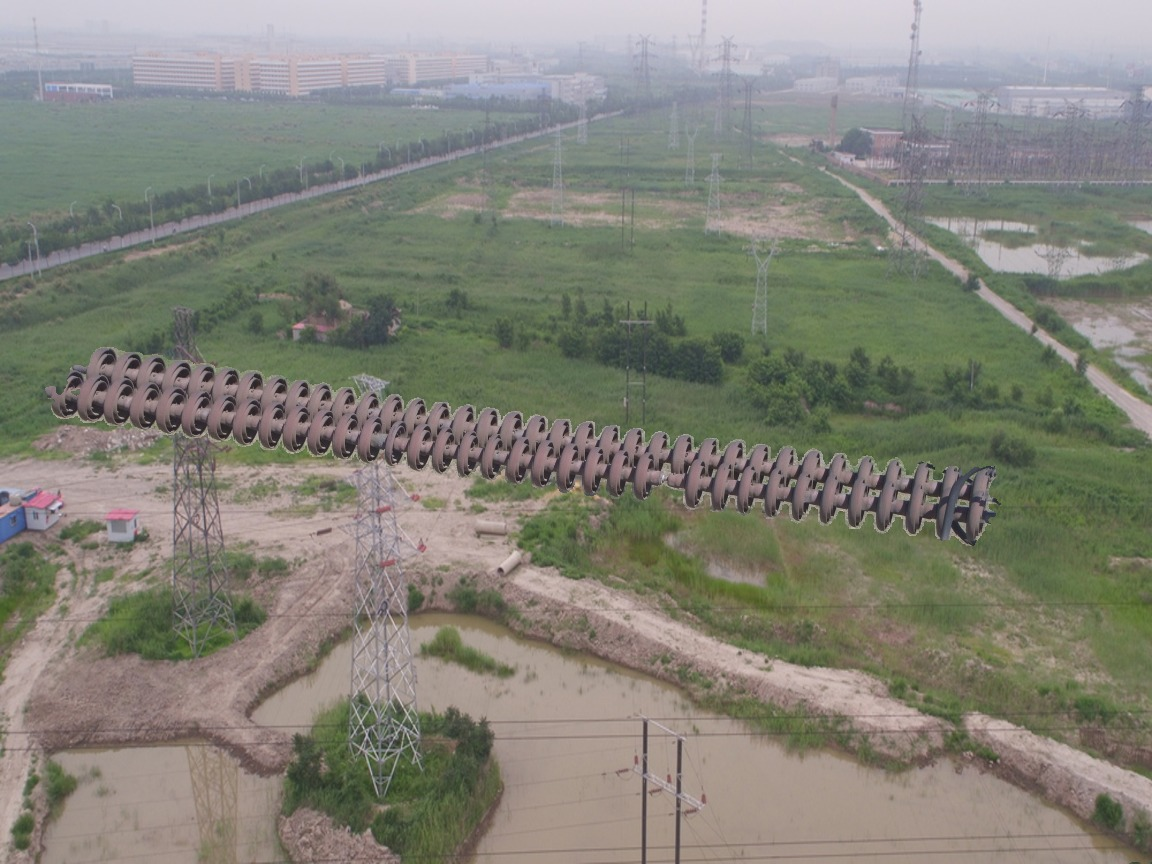defect: (624, 452, 709, 508)
